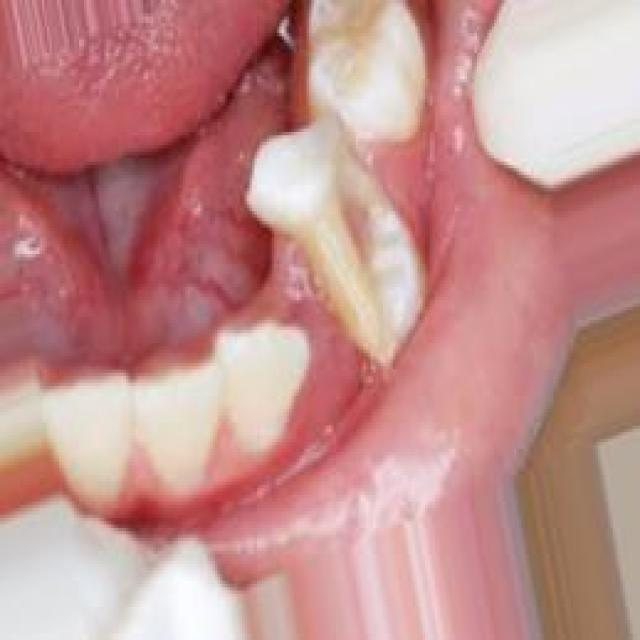caries: (271, 146, 439, 372)
